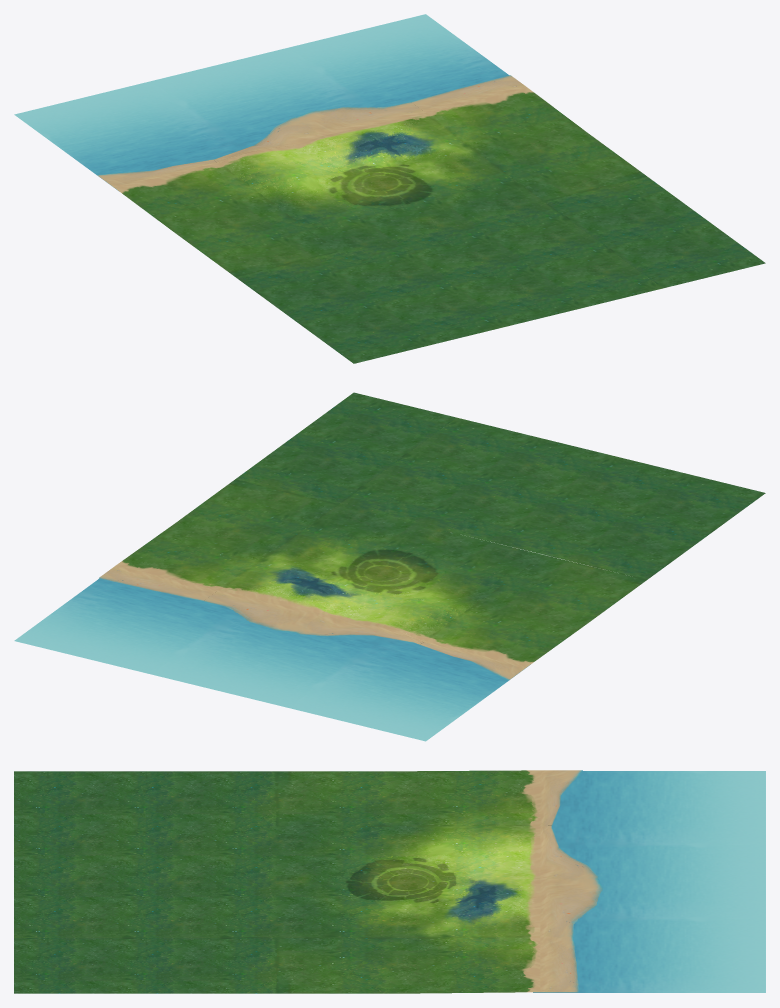
File: dimian.FBX
3 views of the same model, one above another, from view 1: azimuth 30°, elevation 25°; view 2: azimuth 150°, elevation 25°; view 3: azimuth 270°, elevation 25° (orthographic). The views are drawn at different scales.
Parts seen in each view (by area): view 1: dimian001; view 2: dimian001; view 3: dimian001.
Boxes of the visible parts, x1,y1,x2,y2 form: dimian001: [14, 14, 765, 363]; dimian001: [14, 392, 765, 741]; dimian001: [14, 770, 765, 993].
Size of the model in its own units: 3437 by 69.41 by 4911.
